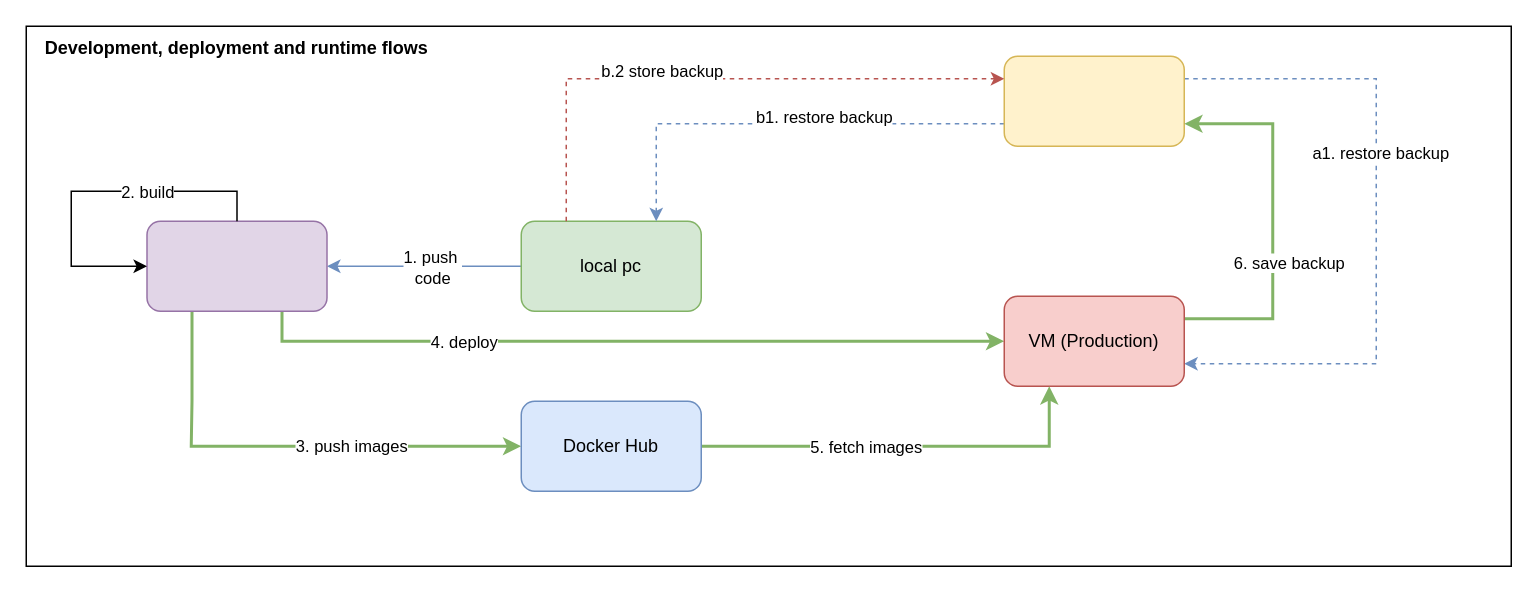
Image size: 1538x593. Some labels were removed from this diagram. Each missing label, with the centre of its shape:
"BitBucket" belongs at point (236, 265).
"S3 (AWS)" belongs at point (1093, 100).
